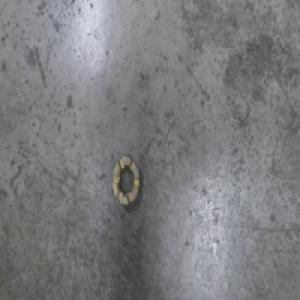Nut: (111, 154, 143, 210)
